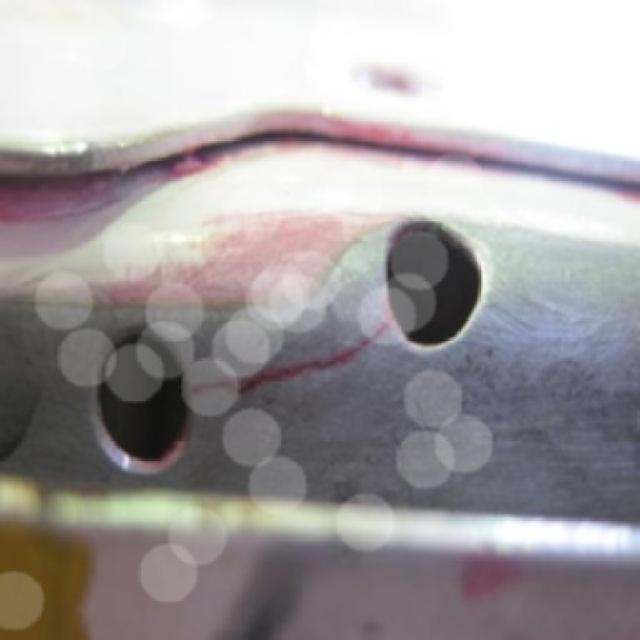crack: (347, 318, 395, 358), (271, 358, 340, 380), (189, 380, 272, 397)
